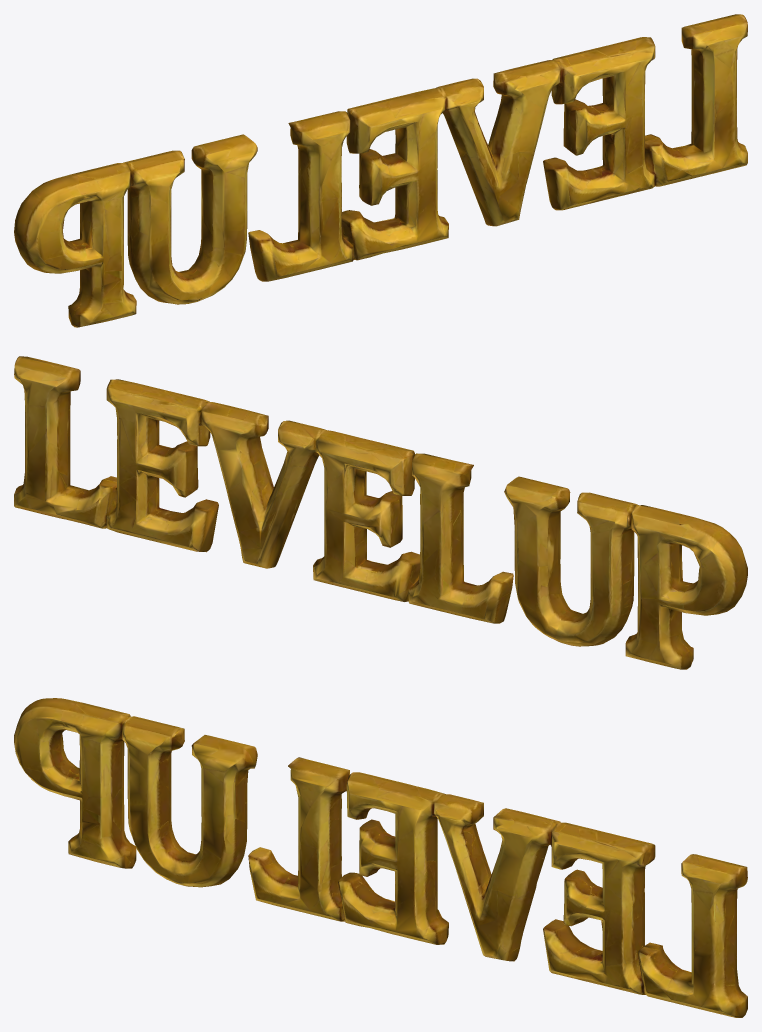
File: level-up.glb
3 renders of one model, top to bottom at view 1: azimuth 30°, elevation 25°; view 2: azimuth 150°, elevation 25°; view 3: azimuth 330°, elevation 25°, orthographic.
Size of the model in its own units: 1.9 by 0.3844 by 0.0962.
Materials: 1 (1 with a texture image).
